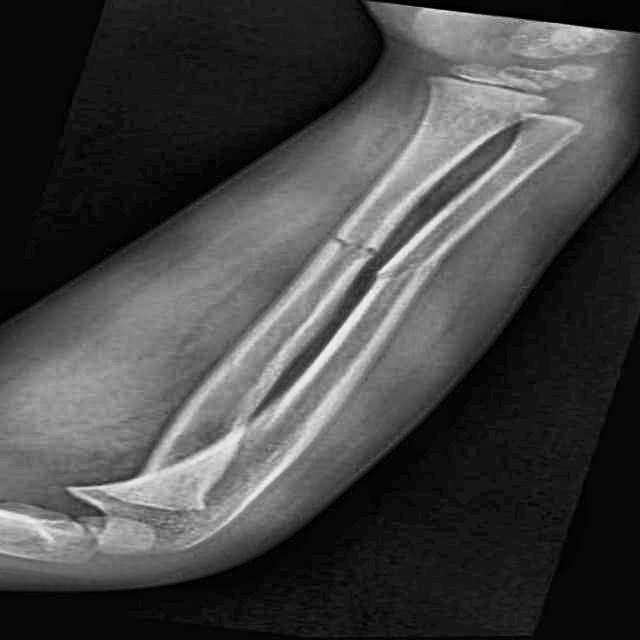Oblique Displaced: (352, 243, 472, 311)
Transverse Displaced: (301, 217, 388, 265)
